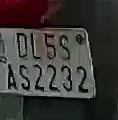2: (46, 64, 61, 94), (75, 66, 91, 94), (33, 64, 46, 93)
3: (61, 65, 73, 93)
A: (3, 64, 18, 91)
D: (12, 29, 30, 62)
L: (27, 32, 41, 60)
S: (44, 29, 59, 63), (17, 64, 34, 93), (57, 33, 72, 65)
